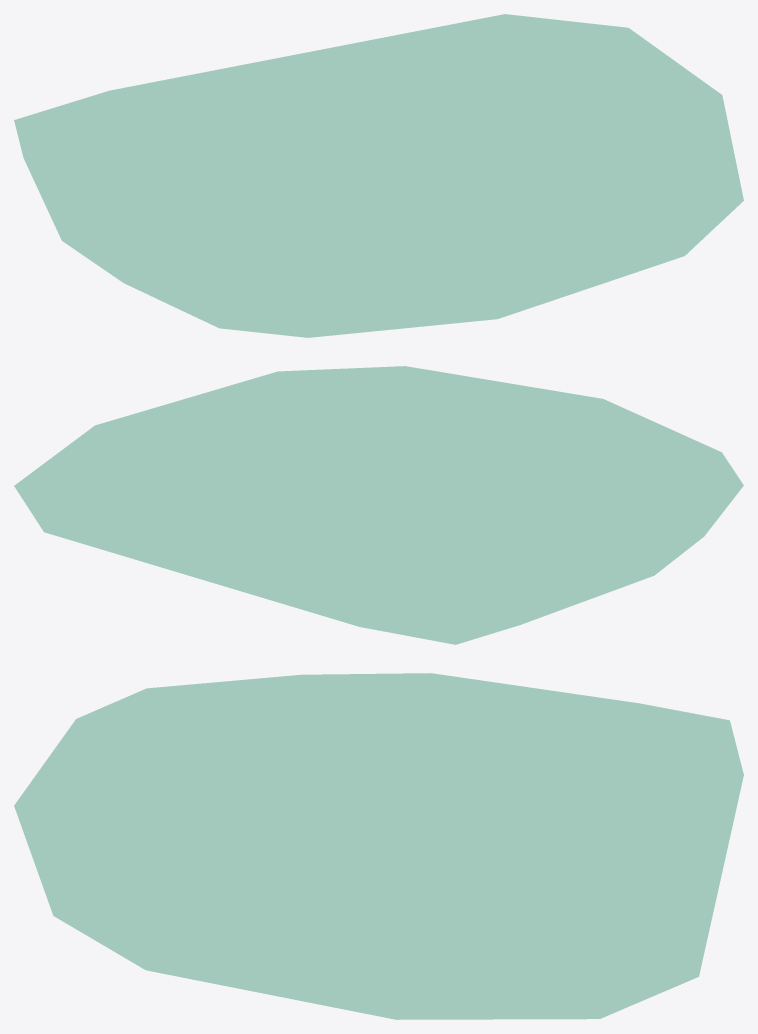
The model's file is waterfloor.fbx.
The picture shows the model from 3 angles, top to bottom: view 1: azimuth 30°, elevation 25°; view 2: azimuth 150°, elevation 25°; view 3: azimuth 270°, elevation 25°; orthographic projection. The views are drawn at different scales.
Parts seen in each view (by area): view 1: Water_002.001; view 2: Water_002.001; view 3: Water_002.001.
Part boxes in pixels (bbox=[...]): Water_002.001: bbox=[14, 14, 743, 337]; Water_002.001: bbox=[14, 366, 743, 644]; Water_002.001: bbox=[14, 673, 743, 1019].
Size of the model in its own units: 2674 by 2379 by 0.0011.
